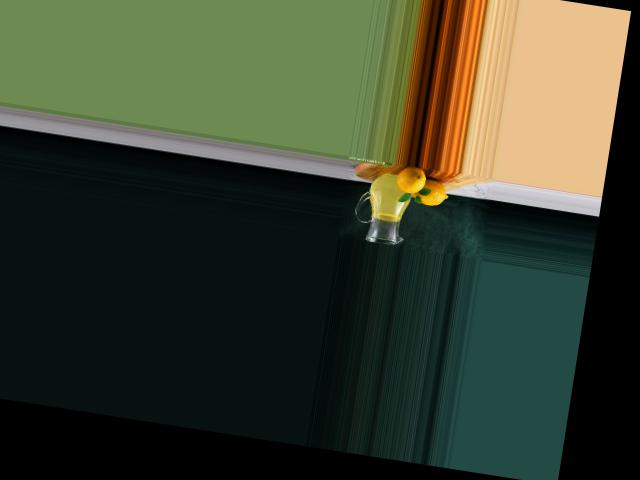lemon: (393, 165, 432, 198)
